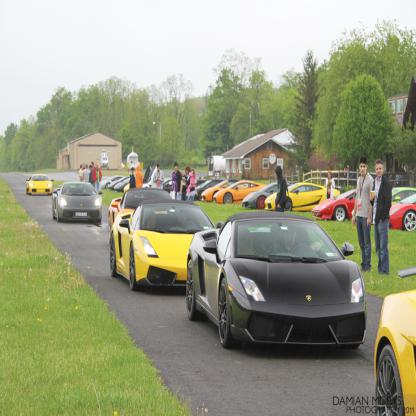Car: (24, 172, 416, 416)
